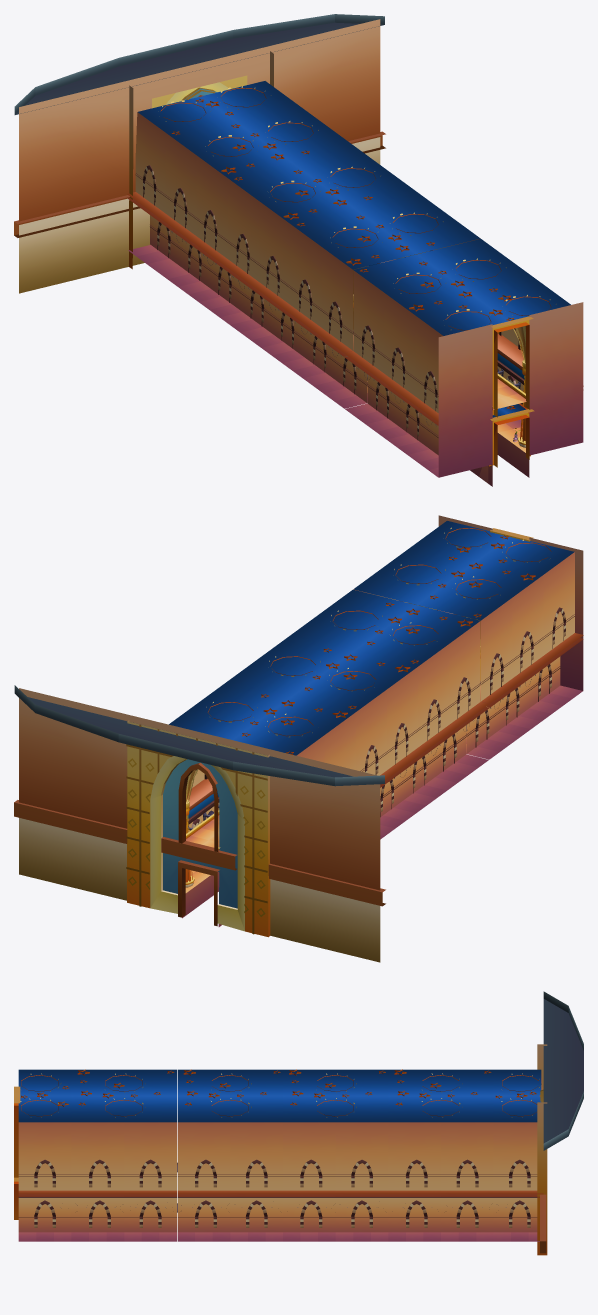
Rendered from Palace.fbx.
The picture shows the model from 3 angles, top to bottom: view 1: azimuth 30°, elevation 25°; view 2: azimuth 150°, elevation 25°; view 3: azimuth 270°, elevation 25°; orthographic projection. The views are drawn at different scales.
Visible parts, largest first — view 1: 1.104_Dubai_pillars_start, 1.104_Dubai_pillars_end, 1.104_Dubai_pillars_mid.003, 1.104_Dubai_pillars_mid.002, 1.104_Dubai_pillars_mid.001, 1.104_Dubai_pillars_mid; view 2: 1.104_Dubai_pillars_start, 1.104_Dubai_pillars_mid.003, 1.104_Dubai_pillars_mid.002, 1.104_Dubai_pillars_mid.001, 1.104_Dubai_pillars_end, 1.104_Dubai_pillars_mid; view 3: 1.104_Dubai_pillars_mid.003, 1.104_Dubai_pillars_mid, 1.104_Dubai_pillars_mid.001, 1.104_Dubai_pillars_mid.002, 1.104_Dubai_pillars_start, 1.104_Dubai_pillars_end.
Boxes of the visible parts, box(x1,y1,x2,y2) form: 1.104_Dubai_pillars_start: box(14, 14, 385, 293); 1.104_Dubai_pillars_end: box(407, 284, 583, 486); 1.104_Dubai_pillars_mid.003: box(344, 239, 543, 454); 1.104_Dubai_pillars_mid.002: box(281, 193, 480, 408); 1.104_Dubai_pillars_mid.001: box(219, 147, 417, 362); 1.104_Dubai_pillars_mid: box(157, 101, 355, 317); 1.104_Dubai_pillars_start: box(14, 685, 385, 962); 1.104_Dubai_pillars_mid.003: box(353, 543, 552, 759); 1.104_Dubai_pillars_mid.002: box(291, 589, 489, 805); 1.104_Dubai_pillars_mid.001: box(228, 635, 426, 839); 1.104_Dubai_pillars_end: box(416, 515, 583, 713); 1.104_Dubai_pillars_mid: box(169, 681, 355, 896); 1.104_Dubai_pillars_mid.003: box(71, 1069, 181, 1241); 1.104_Dubai_pillars_mid: box(388, 1069, 493, 1241); 1.104_Dubai_pillars_mid.001: box(283, 1069, 388, 1241); 1.104_Dubai_pillars_mid.002: box(177, 1069, 282, 1241); 1.104_Dubai_pillars_start: box(493, 991, 583, 1255); 1.104_Dubai_pillars_end: box(14, 1069, 77, 1241).
Size of the model in its own units: 30353 by 15142 by 47959.
